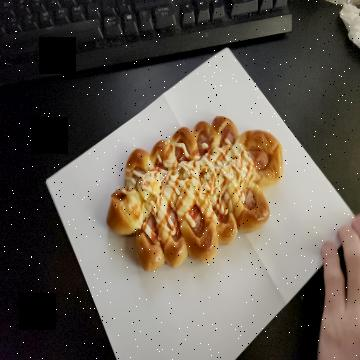pizza_bread: (105, 110, 282, 270)
